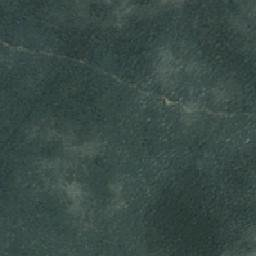debris: (160, 93, 194, 114), (1, 39, 25, 52), (127, 82, 151, 94), (66, 54, 88, 66), (32, 49, 58, 58)
